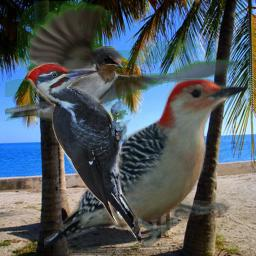Swallow: (5, 1, 238, 124)
Woodpecker: (44, 79, 253, 248), (24, 62, 141, 243)
